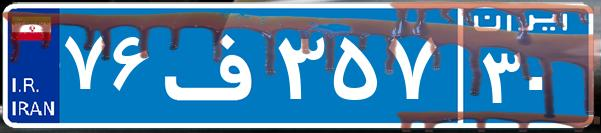0: (525, 38, 570, 115)
3: (273, 28, 330, 110), (475, 38, 525, 113)
5: (330, 28, 385, 110)
6: (110, 28, 158, 105)
7: (385, 28, 445, 110), (57, 26, 110, 107)
ف: (158, 15, 273, 115)
